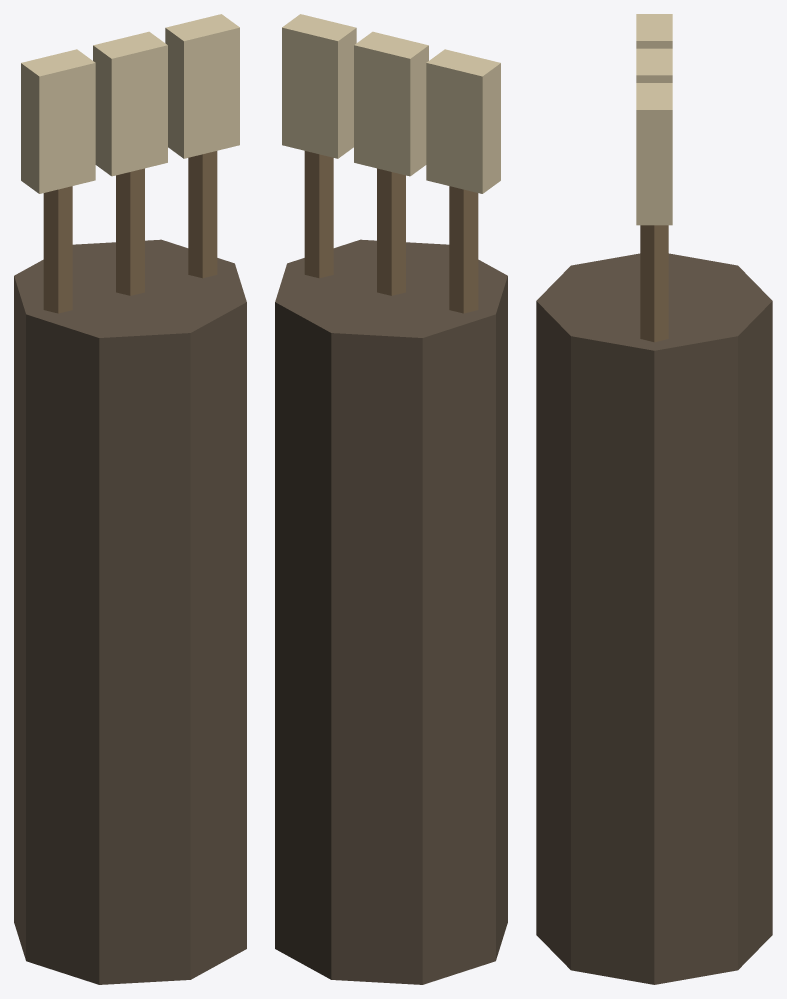
Rendered from Pawn_Quiver.fbx.
3 views of the same model, side by side, from view 1: azimuth 30°, elevation 25°; view 2: azimuth 150°, elevation 25°; view 3: azimuth 270°, elevation 25° (orthographic). The views are drawn at different scales.
Parts seen in each view (by area): view 1: Pawn_Quiver; view 2: Pawn_Quiver; view 3: Pawn_Quiver.
Boxes of the visible parts, x1,y1,x2,y2 form: Pawn_Quiver: (14,14,246,984); Pawn_Quiver: (275,14,507,984); Pawn_Quiver: (536,14,772,984).
Bounding box in the file's own units: 0.26 × 1.06 × 0.26.
